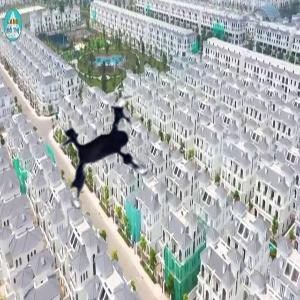drone: (40, 86, 182, 228)
